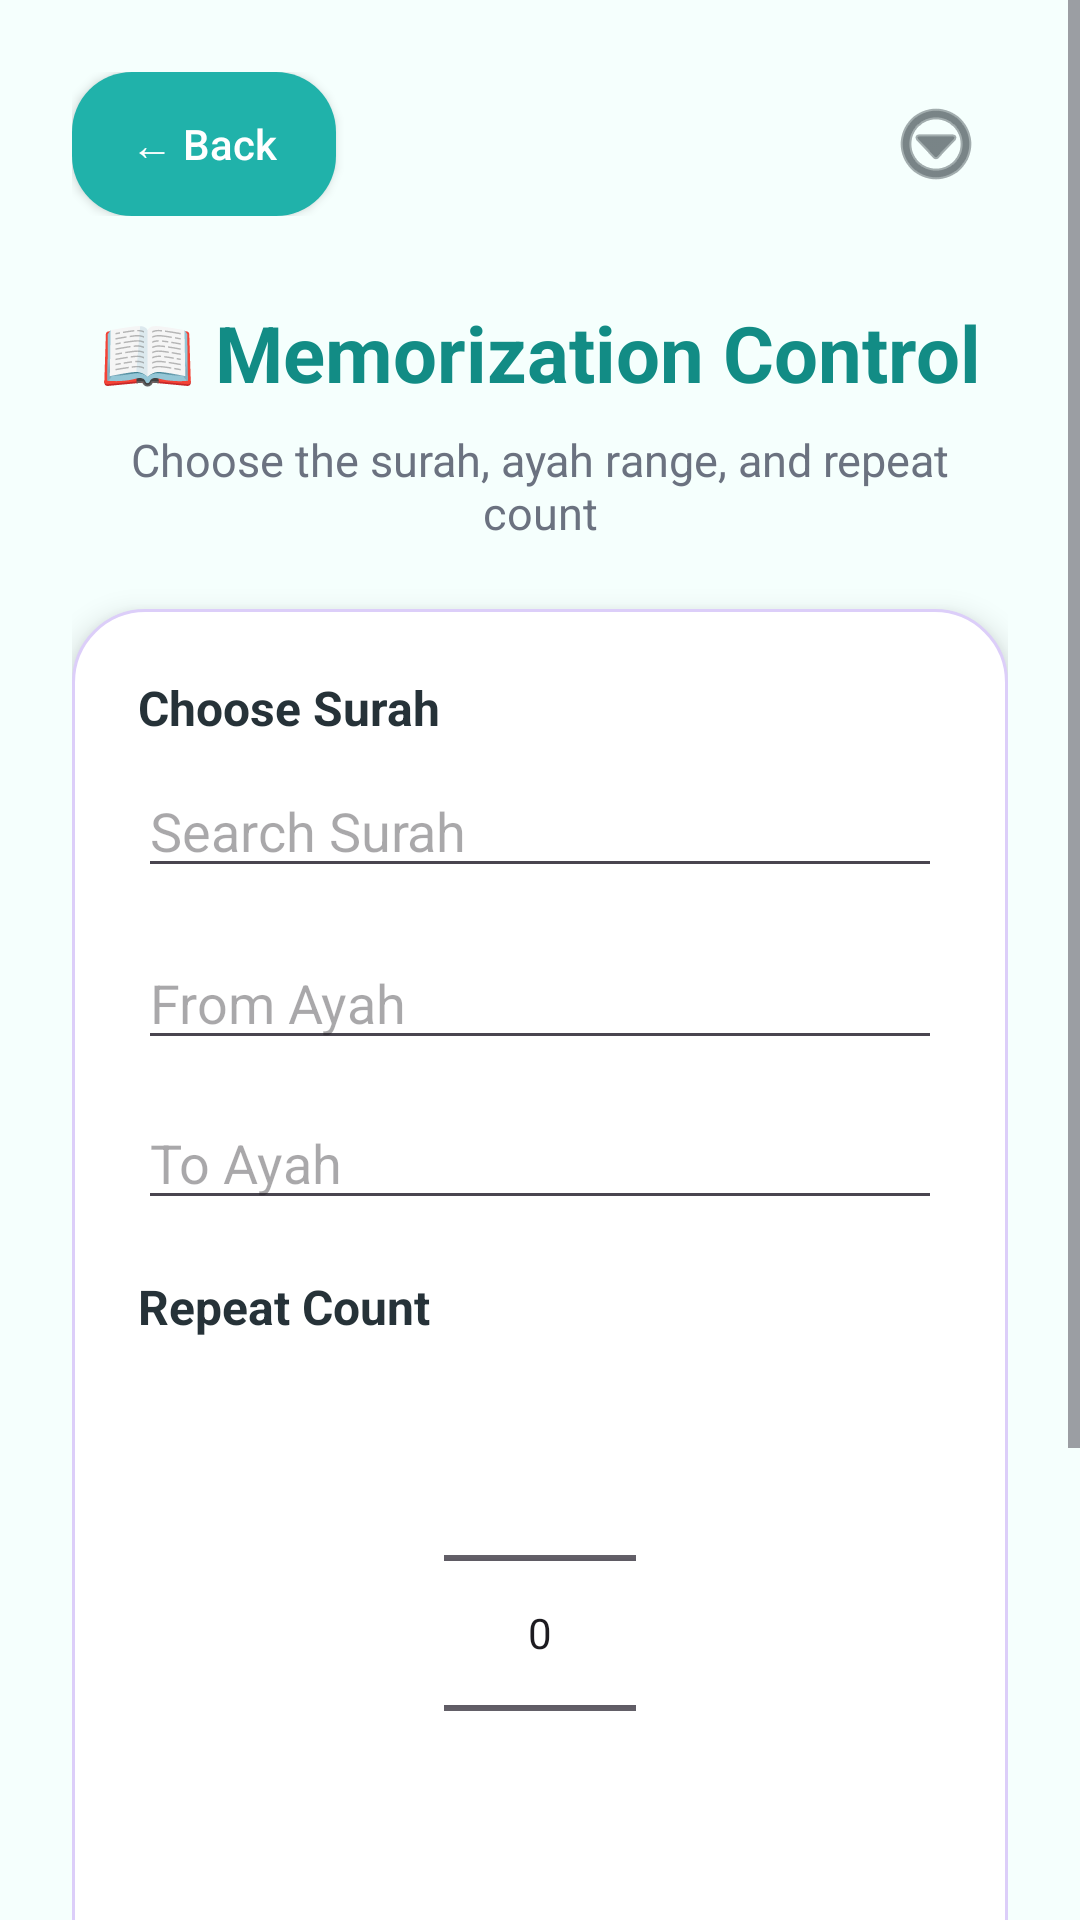

Named icons in this screenshot (1080*1920) and their centers, [x,y]:
Menu: [936,144]
